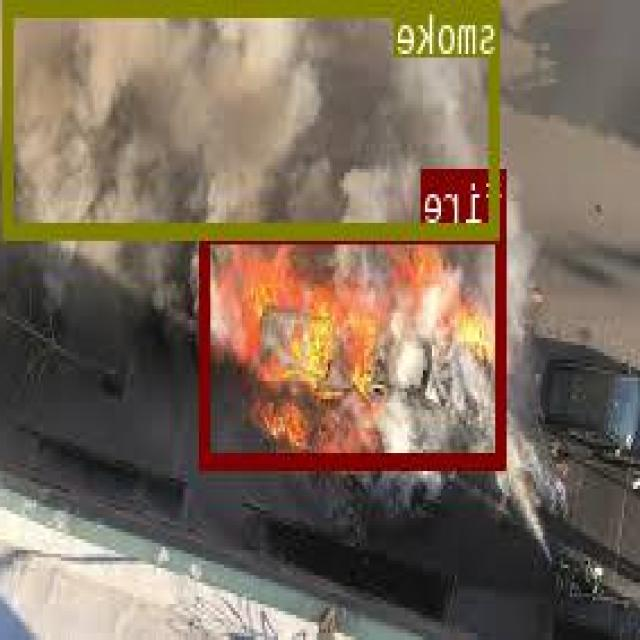fire: (202, 224, 508, 467)
smoke: (6, 0, 502, 237)
